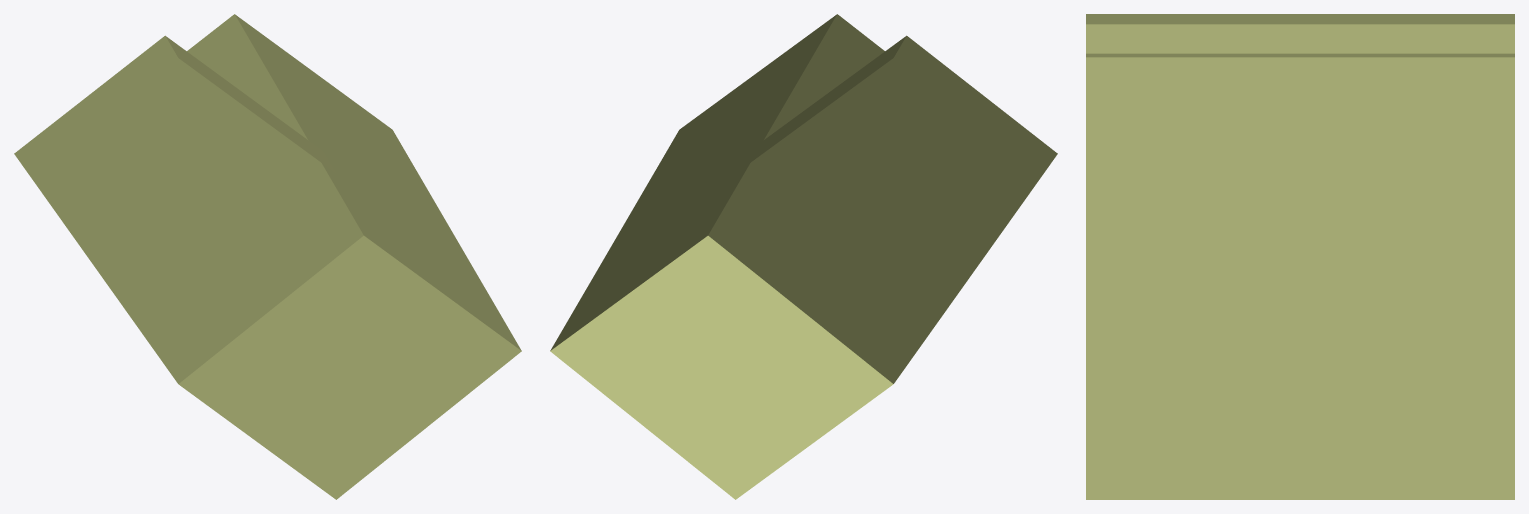
3 views of the same model, side by side, from view 1: azimuth 30°, elevation 25°; view 2: azimuth 150°, elevation 25°; view 3: azimuth 270°, elevation 25° (orthographic). The views are drawn at different scales.
Visible parts, largest first — view 1: 0_1_0_0_3_0_3_3_1_3; view 2: 0_1_0_0_3_0_3_3_1_3; view 3: 0_1_0_0_3_0_3_3_1_3.
Boxes of the visible parts, left/top/right/bottom form: 0_1_0_0_3_0_3_3_1_3: left=14, top=14, right=521, bottom=499; 0_1_0_0_3_0_3_3_1_3: left=550, top=14, right=1057, bottom=499; 0_1_0_0_3_0_3_3_1_3: left=1086, top=14, right=1514, bottom=499.
Size of the model in its own units: 11.5 by 11.2 by 9.
